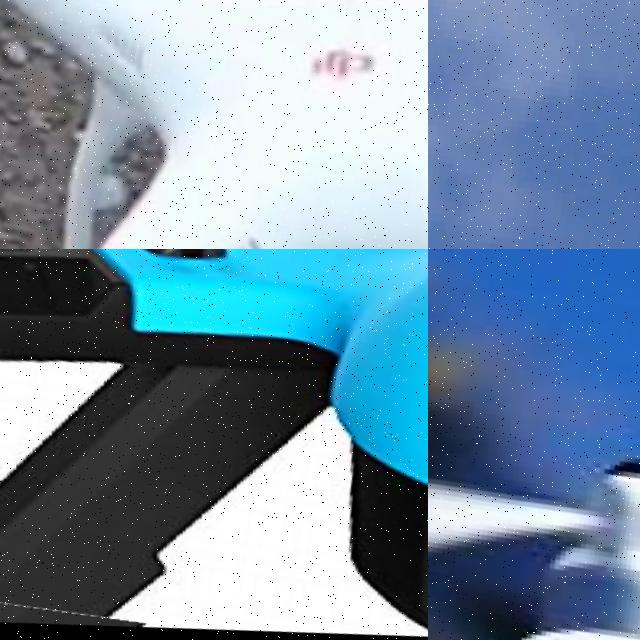drone: (0, 249, 428, 640), (0, 0, 428, 249), (428, 249, 640, 640)
